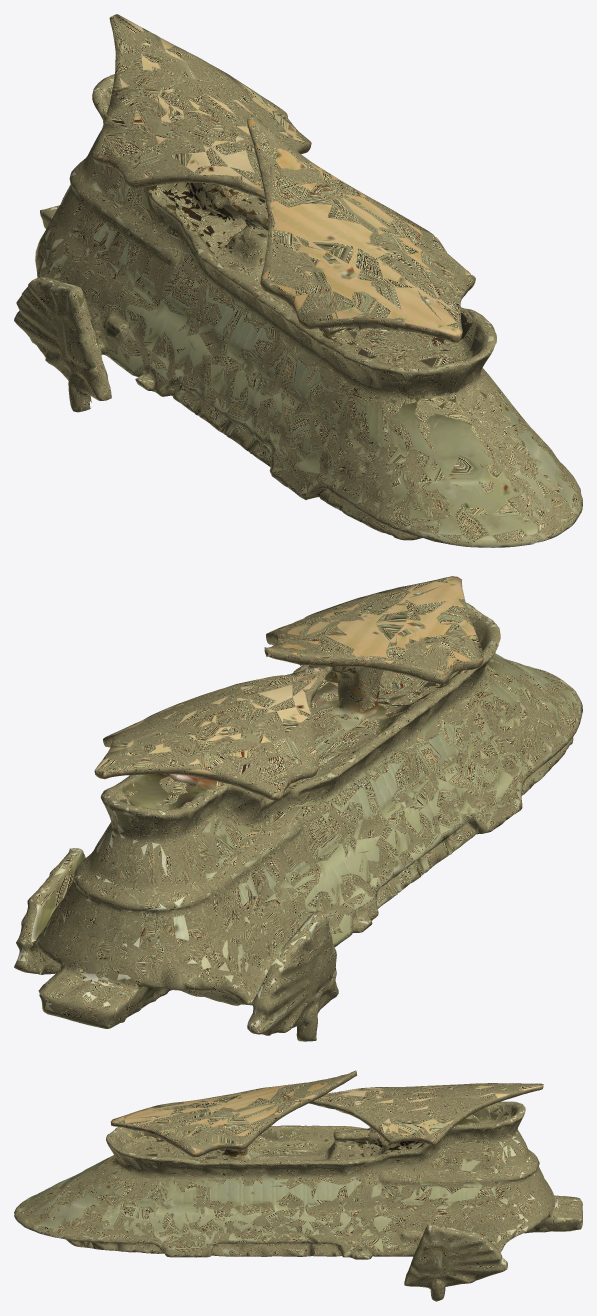
The model's file is sailbarge.glb.
3 views of the same model, one above another, from view 1: azimuth 30°, elevation 25°; view 2: azimuth 150°, elevation 25°; view 3: azimuth 270°, elevation 25° (orthographic). The views are drawn at different scales.
Parts seen in each view (by area): view 1: Object_2; view 2: Object_2; view 3: Object_2.
Part boxes in pixels (x1=…): Object_2: x1=14, y1=14, x2=582, y2=547; Object_2: x1=14, y1=576, x2=582, y2=1041; Object_2: x1=14, y1=1070, x2=582, y2=1301.
Size of the model in its own units: 9.75 by 11.38 by 30.
1 material, 1 textured.
